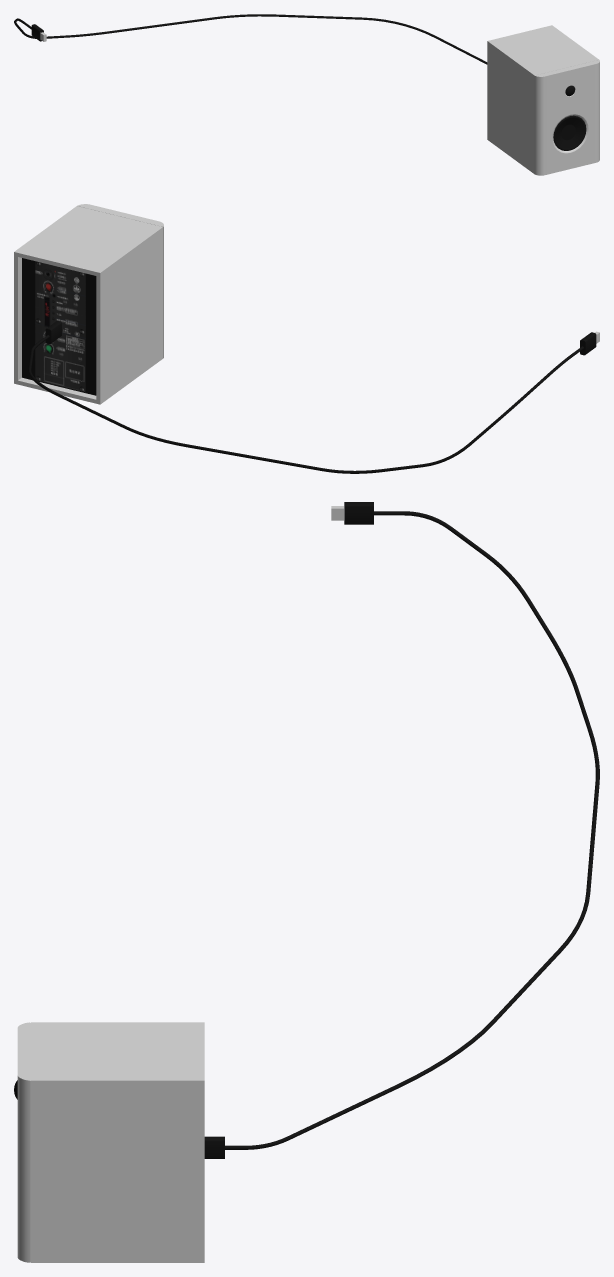
3 renders of one model, top to bottom at view 1: azimuth 30°, elevation 25°; view 2: azimuth 150°, elevation 25°; view 3: azimuth 270°, elevation 25°, orthographic. The views are drawn at different scales.
Parts seen in each view (by area): view 1: 音响, 音响线; view 2: 音响, 音响线; view 3: 音响, 音响线.
Boxes of the visible parts, bbox=[...] form: 音响: bbox=[487, 25, 599, 175]; 音响线: bbox=[14, 14, 487, 64]; 音响: bbox=[14, 204, 163, 404]; 音响线: bbox=[28, 321, 599, 473]; 音响: bbox=[14, 1022, 204, 1262]; 音响线: bbox=[204, 502, 599, 1158].
Bounding box in the file's own units: 766 × 279 × 444.
Materials: 4 (1 with a texture image).
